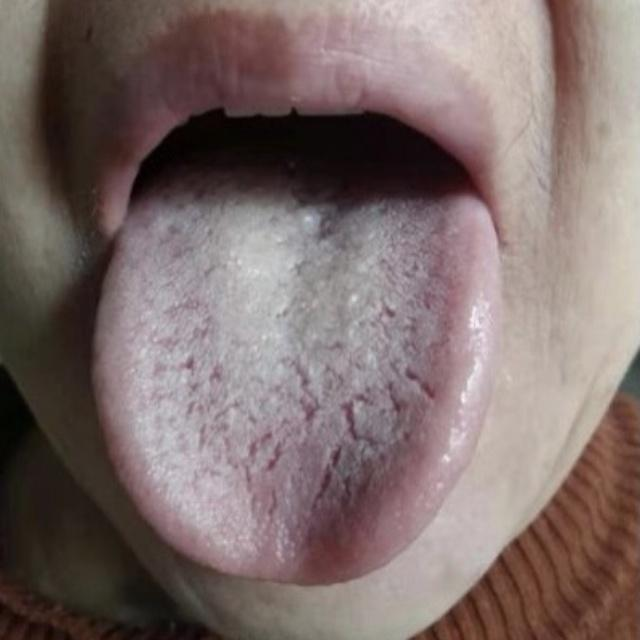baitaishe: (89, 192, 500, 586)
liewenshe: (309, 397, 389, 515)
pangdashe: (88, 192, 499, 586)
